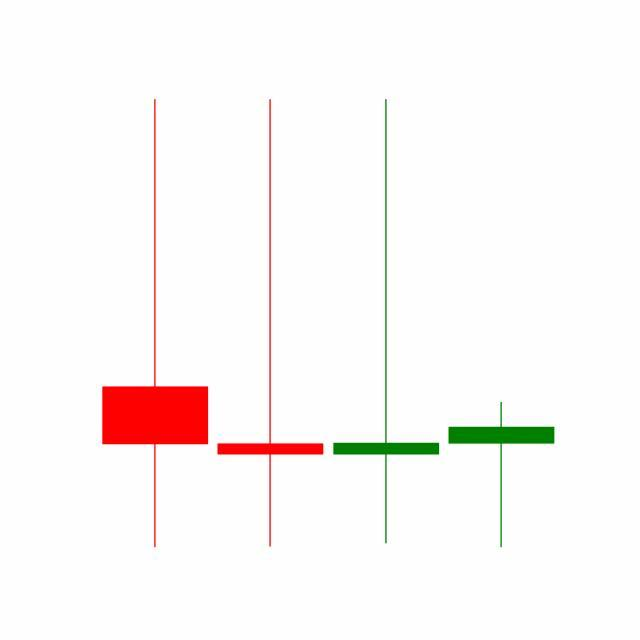Dragonfly Doji: (444, 401, 560, 550)
